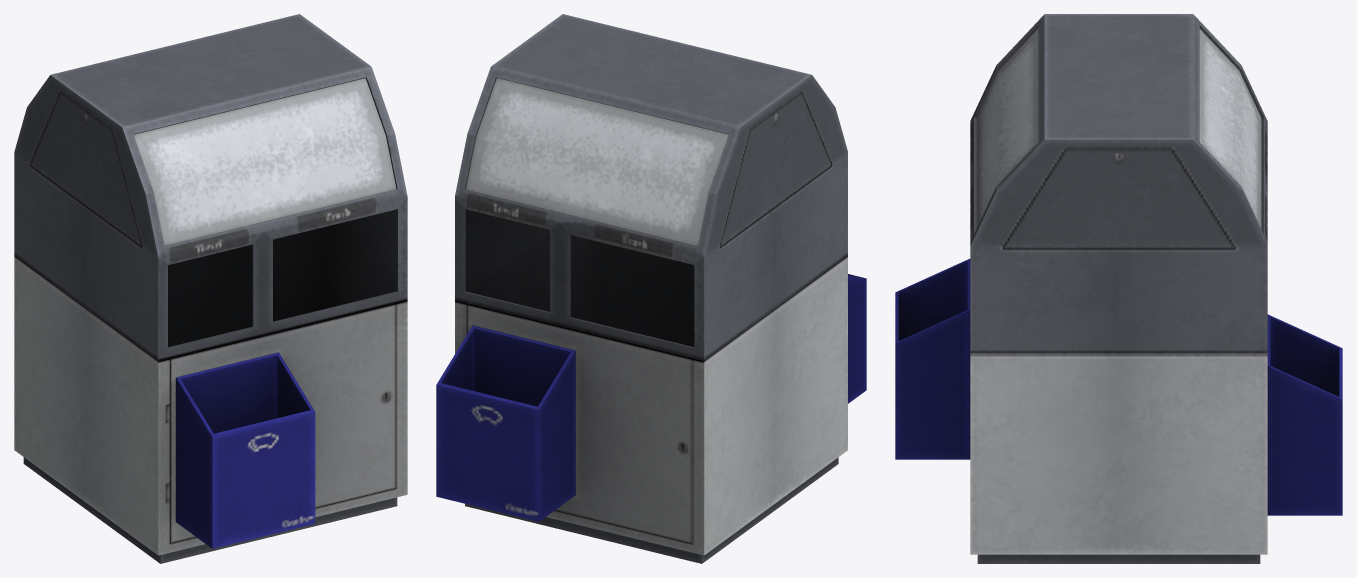
File: Trash_Box.glb
The picture shows the model from 3 angles, left to right: view 1: azimuth 30°, elevation 25°; view 2: azimuth 150°, elevation 25°; view 3: azimuth 270°, elevation 25°; orthographic projection. The views are drawn at different scales.
Visible parts, largest first — view 1: Trash_Box.001; view 2: Trash_Box.001; view 3: Trash_Box.001.
Part boxes in pixels (box(x1,y1,x2,y2)): Trash_Box.001: box(14, 14, 407, 563); Trash_Box.001: box(436, 14, 866, 563); Trash_Box.001: box(895, 14, 1342, 563).
Bounding box in the file's own units: 0.63 × 1 × 0.948.
Materials: 1 (1 with a texture image).
